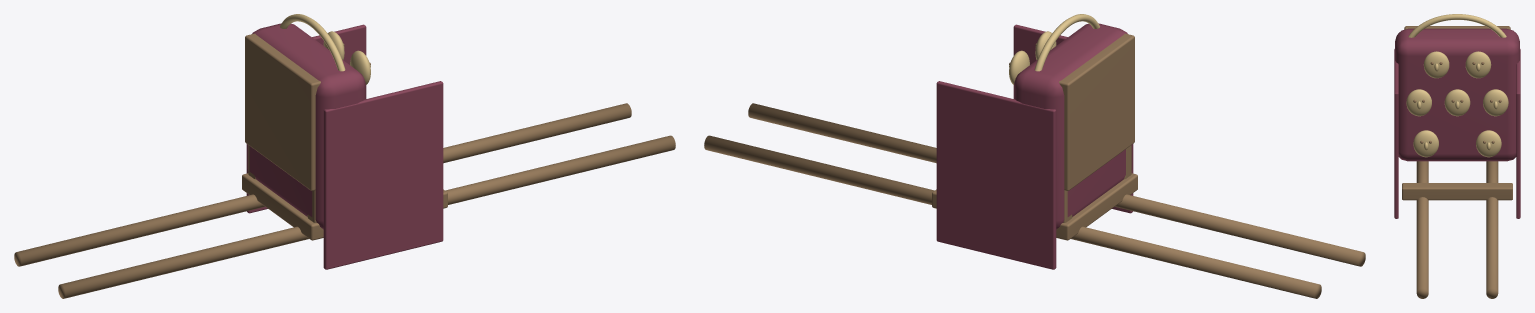
Rendered from rath.glb.
3 renders of one model, left to right at view 1: azimuth 30°, elevation 25°; view 2: azimuth 150°, elevation 25°; view 3: azimuth 270°, elevation 25°, orthographic. The views are drawn at different scales.
Visible parts, largest first — view 1: Cloth side, Frame back, Longitudinal pole, Cloth over frame, Longitudinal pole.001, Frame cross member, Cloth side.001, Simple metal arch, Schematic mohra.005; view 2: Cloth side.001, Frame back, Longitudinal pole.001, Longitudinal pole, Cloth over frame, Frame cross member, Cloth side, Simple metal arch, Schematic mohra.006; view 3: Cloth over frame, Frame cross member.001, Longitudinal pole, Longitudinal pole.001, Cloth side, Cloth side.001, Simple metal arch, Schematic mohra.003, Schematic mohra.005, Schematic mohra.006, Schematic mohra.002, Schematic mohra.004 (+3 smaller).
Part boxes in pixels (left/top/right/bottom): Cloth side: left=323, top=81, right=443, bottom=269; Frame back: left=245, top=33, right=320, bottom=190; Longitudinal pole: left=58, top=135, right=675, bottom=298; Cloth over frame: left=247, top=23, right=366, bottom=229; Longitudinal pole.001: left=14, top=103, right=631, bottom=266; Frame cross member: left=242, top=173, right=323, bottom=240; Cloth side.001: left=246, top=24, right=366, bottom=213; Simple metal arch: left=280, top=14, right=345, bottom=71; Schematic mohra.005: left=350, top=50, right=370, bottom=84; Cloth side.001: left=936, top=81, right=1056, bottom=269; Frame back: left=1059, top=33, right=1134, bottom=190; Longitudinal pole.001: left=704, top=135, right=1321, bottom=298; Longitudinal pole: left=748, top=103, right=1365, bottom=266; Cloth over frame: left=1013, top=23, right=1132, bottom=229; Frame cross member: left=1056, top=173, right=1137, bottom=240; Cloth side: left=1013, top=24, right=1133, bottom=213; Simple metal arch: left=1034, top=14, right=1099, bottom=71; Schematic mohra.006: left=1009, top=50, right=1029, bottom=84; Cloth over frame: left=1395, top=28, right=1519, bottom=161; Frame cross member.001: left=1402, top=183, right=1512, bottom=200; Longitudinal pole: left=1416, top=161, right=1428, bottom=298; Longitudinal pole.001: left=1486, top=161, right=1498, bottom=298; Cloth side: left=1394, top=49, right=1398, bottom=218; Cloth side.001: left=1516, top=49, right=1520, bottom=218; Simple metal arch: left=1408, top=14, right=1506, bottom=37; Schematic mohra.003: left=1444, top=89, right=1470, bottom=116; Schematic mohra.005: left=1423, top=51, right=1449, bottom=78; Schematic mohra.006: left=1465, top=51, right=1491, bottom=78; Schematic mohra.002: left=1406, top=89, right=1431, bottom=116; Schematic mohra.004: left=1483, top=89, right=1508, bottom=116.
Size of the model in its own units: 3.2 by 1.08 by 0.725.
